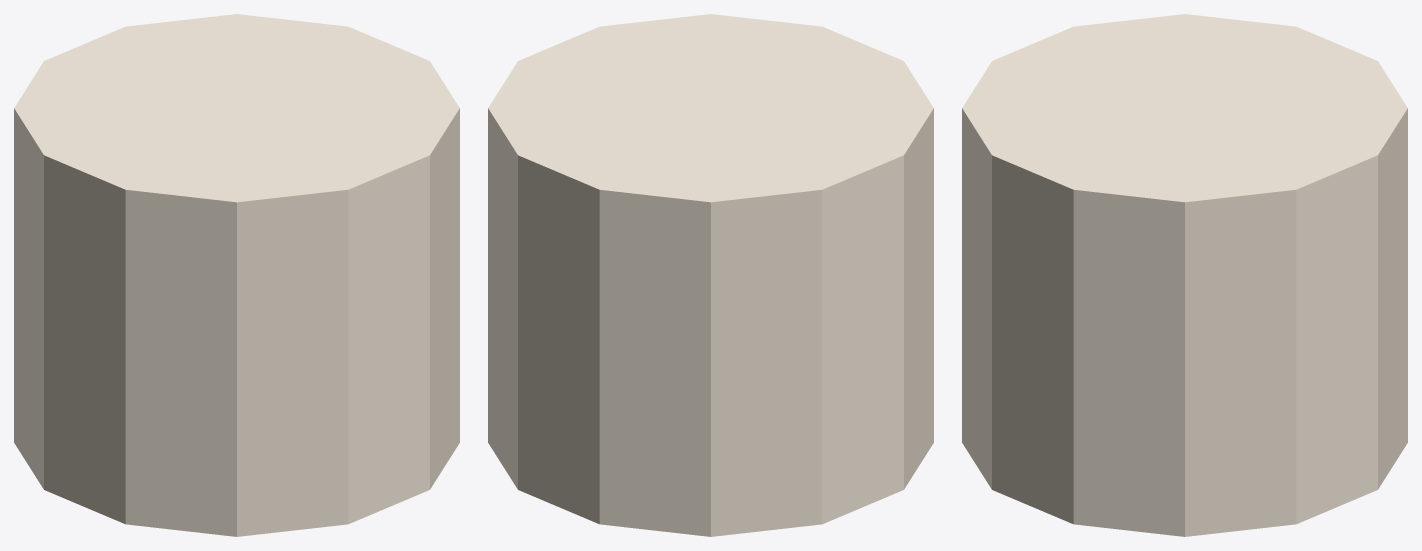
The model's file is CrainBigPart2.fbx.
3 views of the same model, side by side, from view 1: azimuth 30°, elevation 25°; view 2: azimuth 150°, elevation 25°; view 3: azimuth 270°, elevation 25° (orthographic).
Parts seen in each view (by area): view 1: CrainBigPart2; view 2: CrainBigPart2; view 3: CrainBigPart2.
Boxes of the visible parts, box(x1,y1,x2,y2) form: CrainBigPart2: box(14, 14, 459, 536); CrainBigPart2: box(488, 14, 933, 536); CrainBigPart2: box(962, 14, 1407, 536).
Size of the model in its own units: 11.45 by 9.49 by 11.45.
